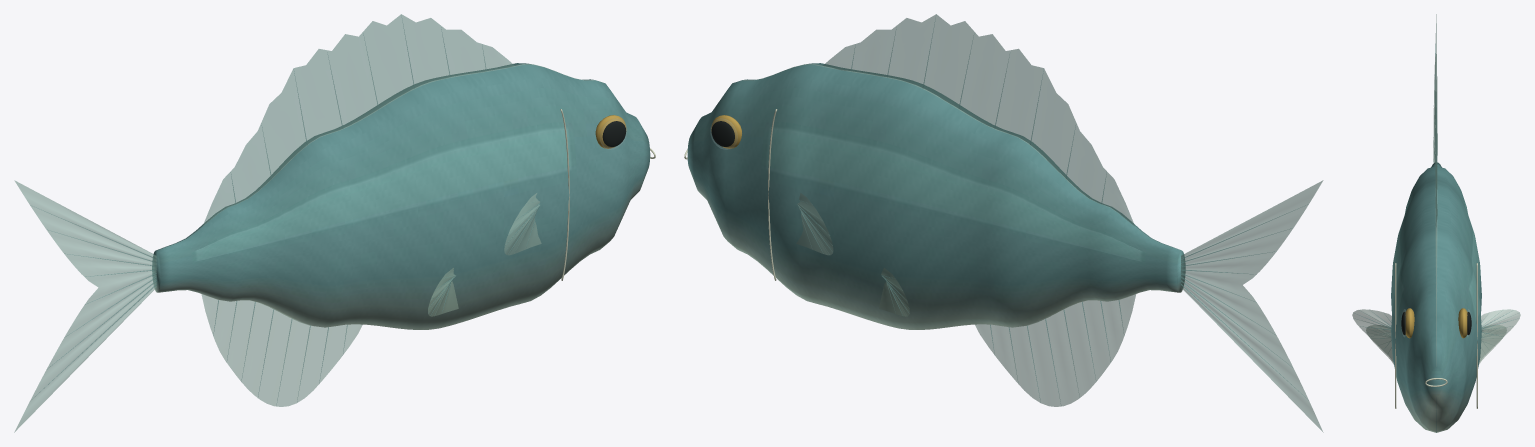
File: chromis-mobile.glb
3 views of the same model, side by side, from view 1: azimuth 30°, elevation 25°; view 2: azimuth 150°, elevation 25°; view 3: azimuth 270°, elevation 25° (orthographic). The views are drawn at different scales.
Parts seen in each view (by area): view 1: skin, dorsal, tail, anal, dorsal-ray, pectoral-left, pelvic-left; view 2: skin, dorsal, tail, anal, dorsal-ray, pectoral-left, pelvic-left; view 3: skin, pectoral-left, pelvic-left, operculum, eye-iris--1, tail, dorsal, dorsal-ray, eye-pupil--1.
Boxes of the visible parts, x1,y1,x2,y2 form: skin: (152, 63, 650, 329); dorsal: (203, 14, 514, 225); tail: (14, 180, 156, 432); anal: (201, 294, 362, 406); dorsal-ray: (35, 16, 539, 401); pectoral-left: (504, 193, 541, 255); pelvic-left: (428, 268, 458, 316); skin: (687, 63, 1185, 329); dorsal: (823, 14, 1134, 225); tail: (1181, 180, 1323, 432); anal: (975, 294, 1135, 406); dorsal-ray: (797, 15, 1305, 401); pectoral-left: (796, 193, 833, 255); pelvic-left: (879, 268, 909, 316); skin: (1391, 162, 1481, 432); pectoral-left: (1352, 309, 1520, 361); pelvic-left: (1366, 325, 1506, 364); operculum: (1395, 263, 1477, 408); eye-iris--1: (1405, 308, 1467, 338); tail: (1433, 14, 1437, 162); dorsal: (1435, 92, 1437, 226); dorsal-ray: (1355, 45, 1515, 347); eye-pupil--1: (1401, 312, 1471, 334).
Size of the model in its own units: 0.6152 by 0.3375 by 0.167.
Materials: 11 (1 with a texture image).
